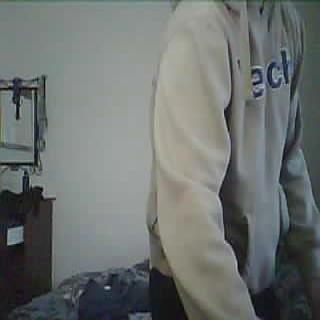Navy Sweatpants: (145, 281, 283, 320)
Yellow Hoodie: (155, 4, 313, 284)
